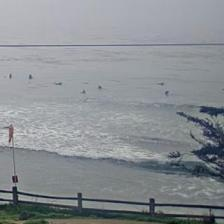surfer: (55, 81, 62, 85), (28, 73, 32, 79), (81, 90, 86, 94), (98, 85, 103, 89), (164, 90, 169, 94), (9, 73, 12, 79), (158, 82, 164, 85)
